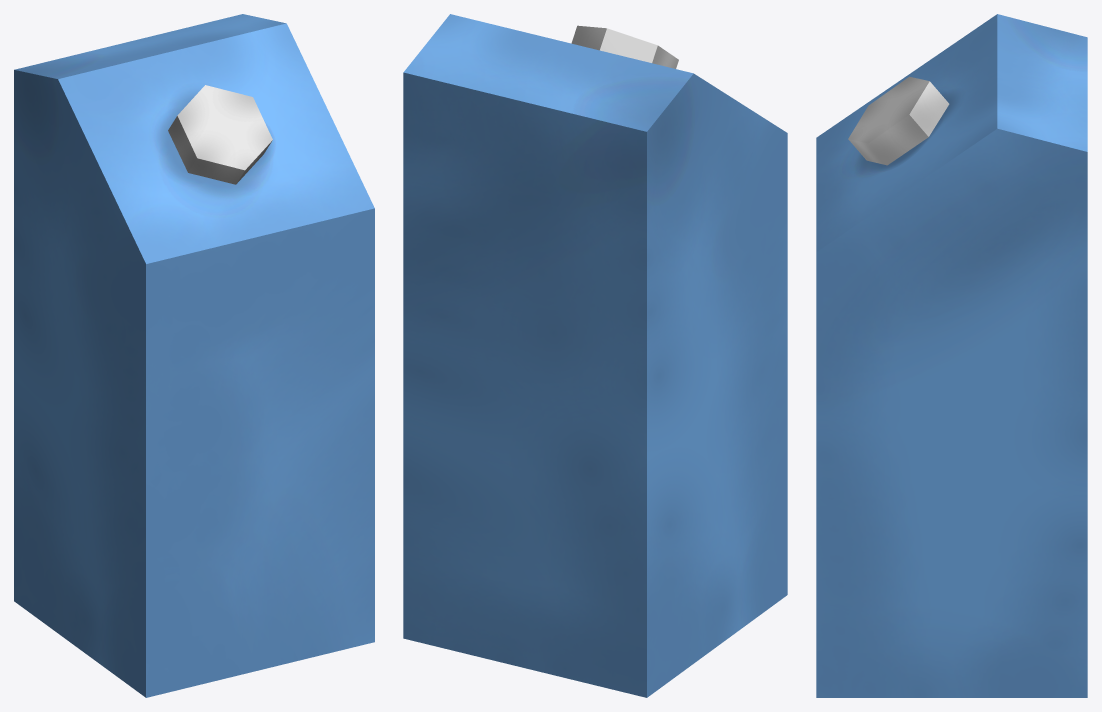
Rendered from milk_carton.glb.
3 renders of one model, left to right at view 1: azimuth 30°, elevation 25°; view 2: azimuth 150°, elevation 25°; view 3: azimuth 270°, elevation 25°, orthographic. The views are drawn at different scales.
Visible parts, largest first — view 1: bottle; view 2: bottle; view 3: bottle.
Part boxes in pixels (x1=…): bottle: x1=14, y1=14, x2=374, y2=697; bottle: x1=403, y1=14, x2=787, y2=697; bottle: x1=816, y1=14, x2=1087, y2=697.
Size of the model in its own units: 0.1697 by 0.3929 by 0.1697.
Materials: 2 (2 with a texture image).
